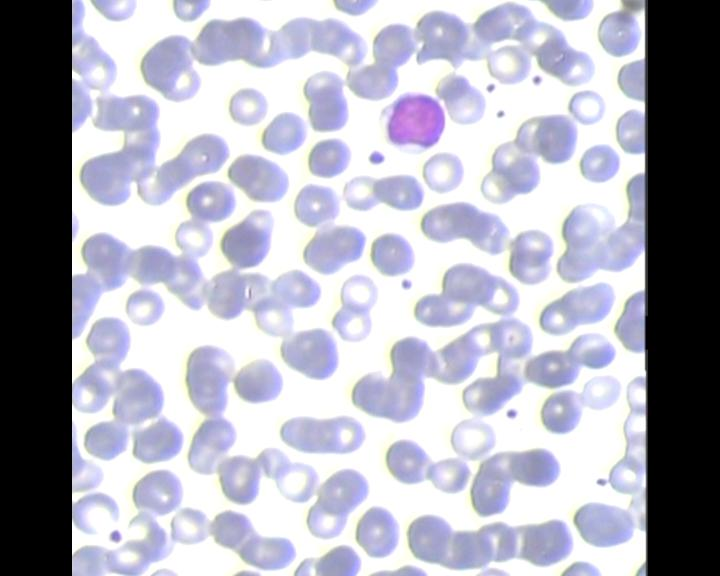lymp: (376, 88, 445, 156)
